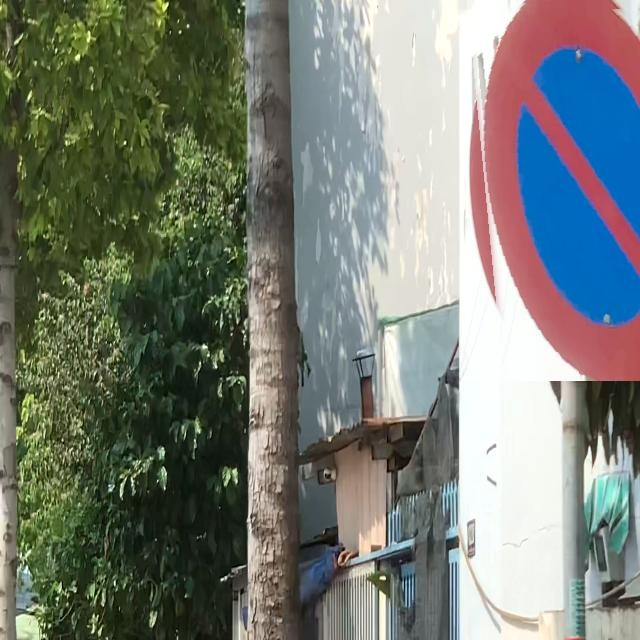bien_cam: (467, 0, 640, 381)
